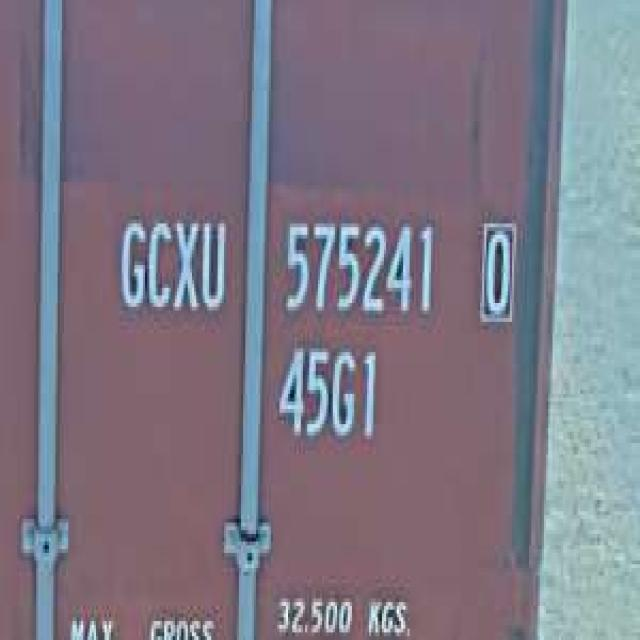dv: (475, 215, 522, 333)
owner: (110, 208, 228, 320)
serial: (274, 207, 449, 323)
size: (270, 338, 386, 451)
